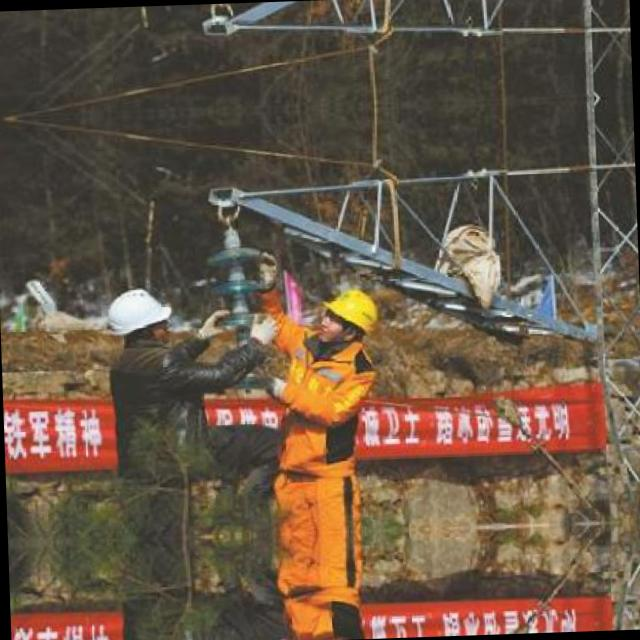helmet: (102, 280, 178, 355), (309, 284, 383, 345)
